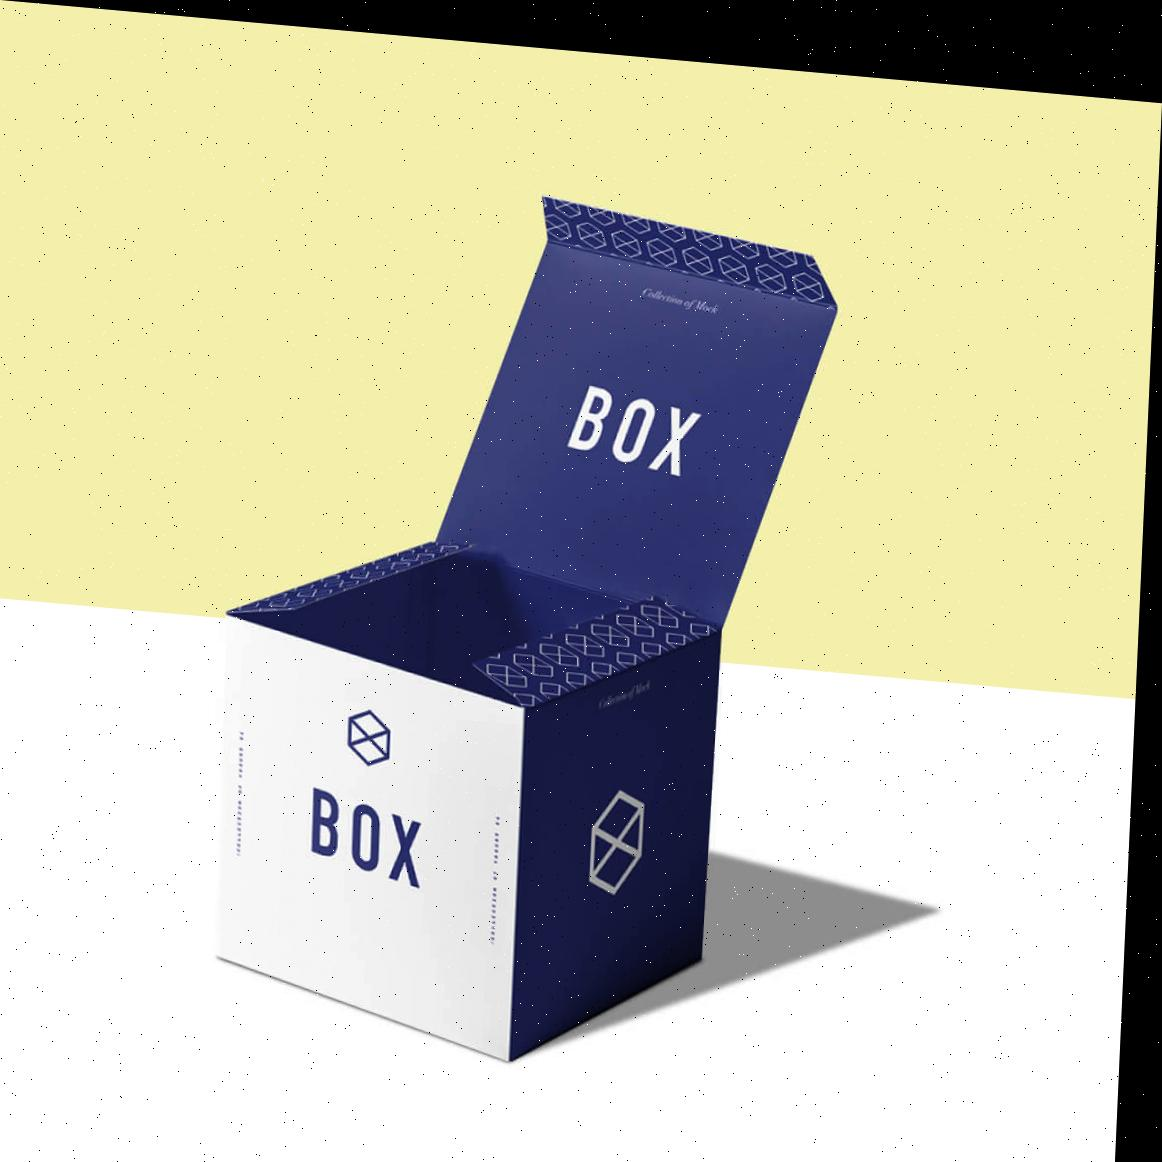cube: (215, 528, 728, 1068)
